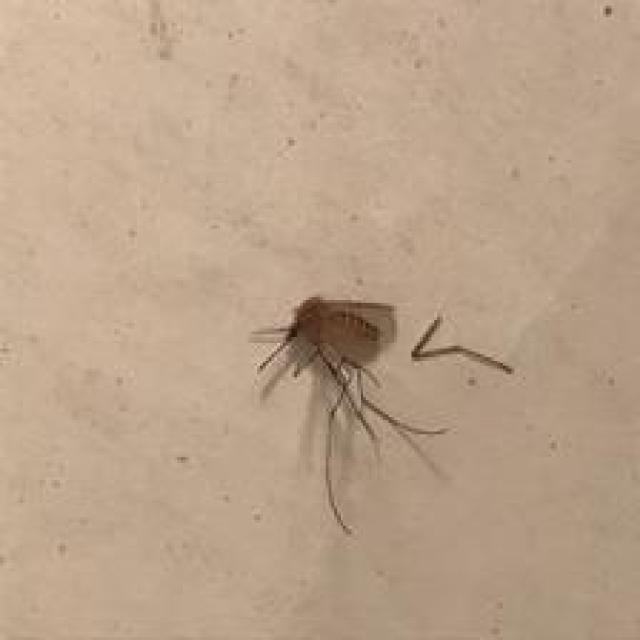Culex: (247, 293, 513, 536)
